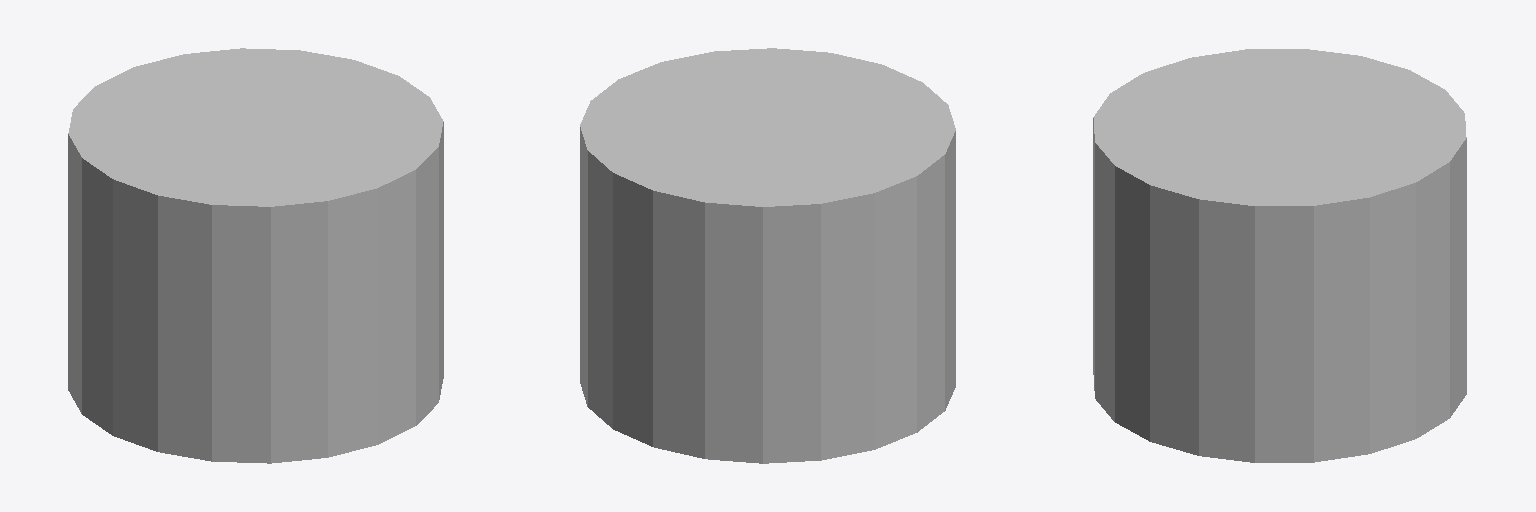
The model's file is Resaltado_Nervio_supraclavicular_D_1.obj.
3 views of the same model, side by side, from view 1: azimuth 30°, elevation 25°; view 2: azimuth 150°, elevation 25°; view 3: azimuth 270°, elevation 25° (orthographic).
Visible parts, largest first — view 1: polySurface18 Marcadores1; view 2: polySurface18 Marcadores1; view 3: polySurface18 Marcadores1.
Boxes of the visible parts, box(x1,y1,x2,y2) form: polySurface18 Marcadores1: box(68, 48, 443, 463); polySurface18 Marcadores1: box(580, 48, 955, 463); polySurface18 Marcadores1: box(1093, 49, 1466, 462).
Bounding box in the file's own units: 0.0277 × 0.021 × 0.0277.